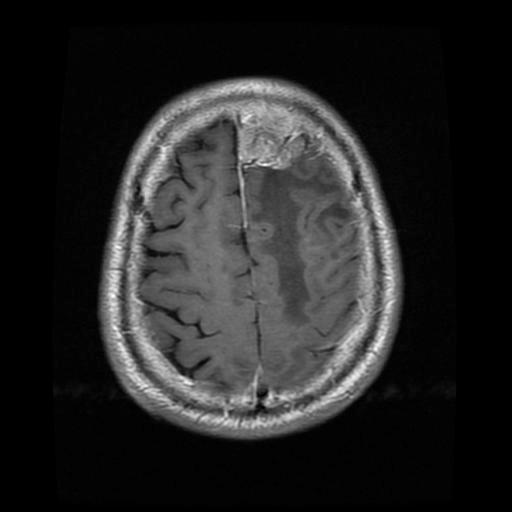Tumour-Pituitary: (222, 103, 314, 195)
